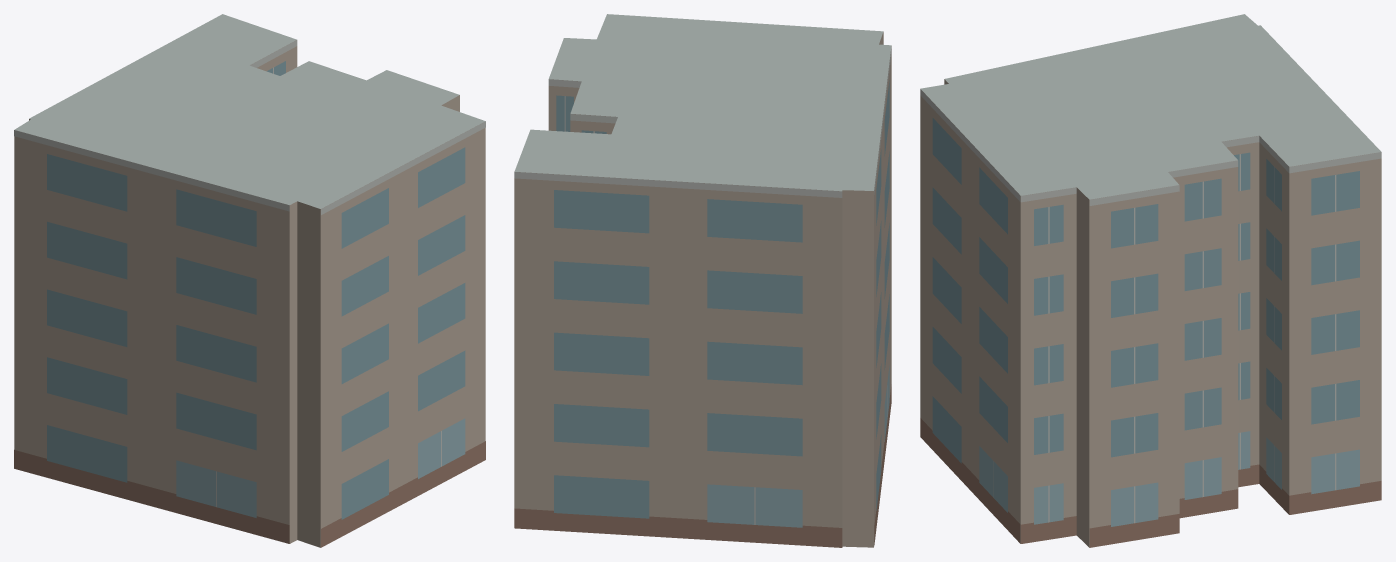
File: survey-upis-32837271.glb
The picture shows the model from 3 angles, left to right: view 1: azimuth 30°, elevation 25°; view 2: azimuth 150°, elevation 25°; view 3: azimuth 270°, elevation 25°; orthographic projection. The views are drawn at different scales.
Visible parts, largest first — view 1: survey-upis-32837271.tmp; view 2: survey-upis-32837271.tmp; view 3: survey-upis-32837271.tmp.
Part boxes in pixels (x1,y1,x2,y2): survey-upis-32837271.tmp: [14, 14, 485, 547]; survey-upis-32837271.tmp: [514, 14, 891, 547]; survey-upis-32837271.tmp: [920, 14, 1381, 547].
Size of the model in its own units: 14.87 by 13 by 15.62.
